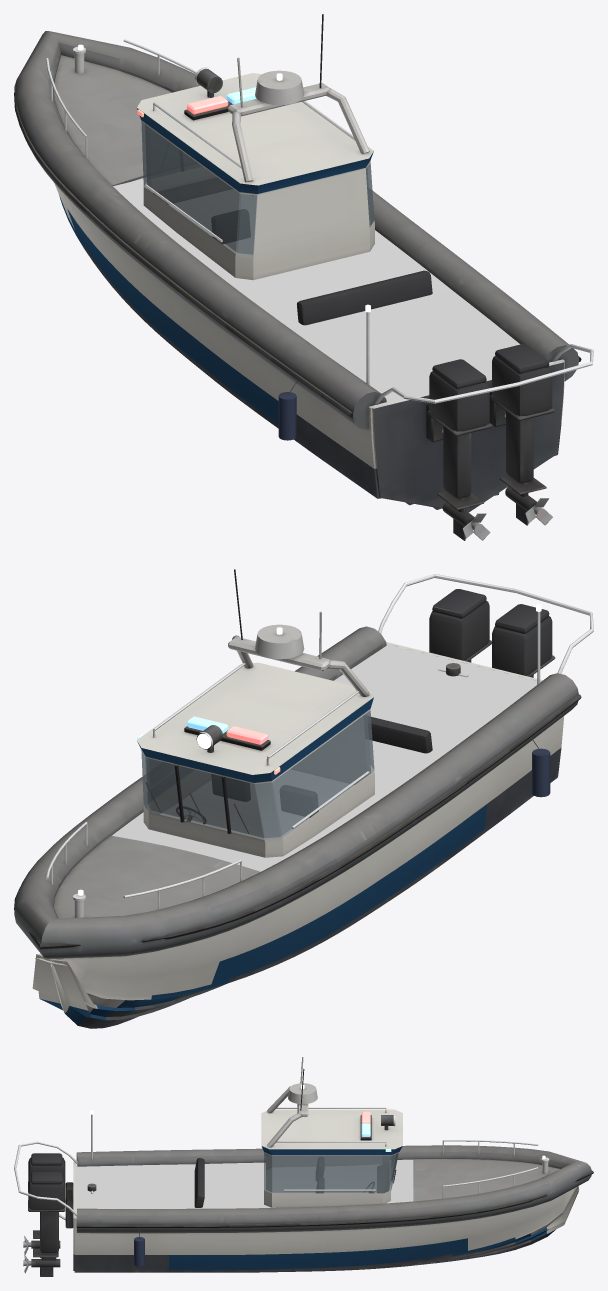
File: police_boat.glb
3 renders of one model, top to bottom at view 1: azimuth 30°, elevation 25°; view 2: azimuth 150°, elevation 25°; view 3: azimuth 270°, elevation 25°, orthographic. The views are drawn at different scales.
Visible parts, largest first — view 1: lod0, col_hull_hull, engine_l, engine_r; view 2: lod0, col_hull_hull, engine_r, engine_l; view 3: lod0, col_hull_hull, engine_r, engine_l.
Part boxes in pixels (x1,y1,x2,y2): lod0: (14, 14, 593, 512); col_hull_hull: (113, 177, 560, 502); engine_l: (426, 359, 492, 540); engine_r: (489, 344, 555, 525); lod0: (14, 569, 593, 1028); col_hull_hull: (51, 644, 540, 961); engine_r: (429, 589, 491, 662); engine_l: (492, 604, 555, 677); lod0: (14, 1057, 593, 1272); col_hull_hull: (75, 1159, 413, 1217); engine_r: (28, 1172, 73, 1276); engine_l: (28, 1153, 73, 1258).
Size of what is drawn, in the model's own units: 3.78 by 4.76 by 11.64.
11 materials, 10 textured.
